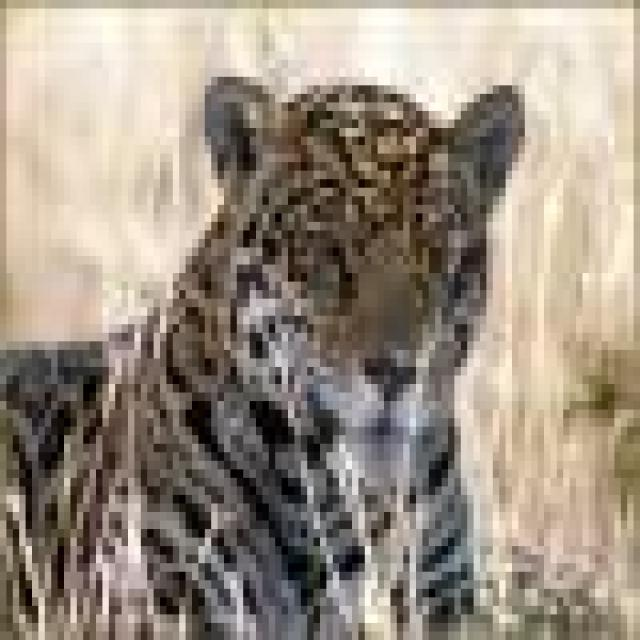Leopard: (0, 51, 538, 623)
